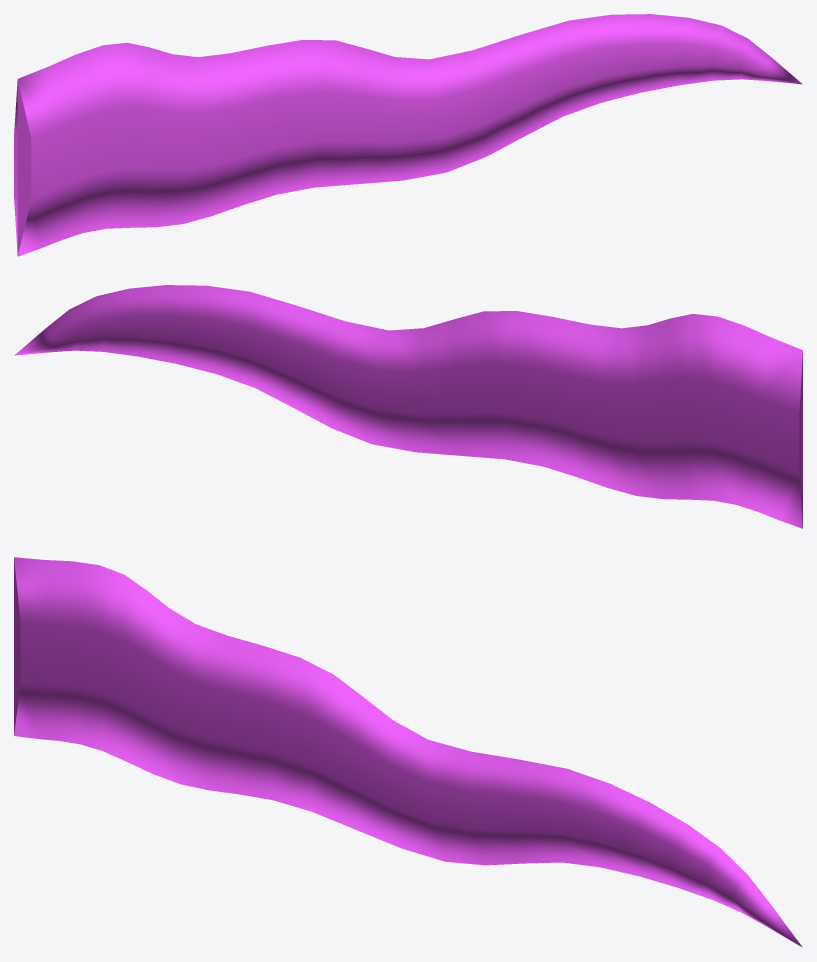
The model's file is LeapFlag.fbx.
3 views of the same model, one above another, from view 1: azimuth 30°, elevation 25°; view 2: azimuth 150°, elevation 25°; view 3: azimuth 330°, elevation 25° (orthographic).
Parts seen in each view (by area): view 1: LeapFlag; view 2: LeapFlag; view 3: LeapFlag.
Part boxes in pixels (<box>): LeapFlag: <box>14,14,802,256</box>; LeapFlag: <box>14,285,802,528</box>; LeapFlag: <box>14,557,802,947</box>.
Size of the model in its own units: 75.86 by 19.49 by 1.21.
